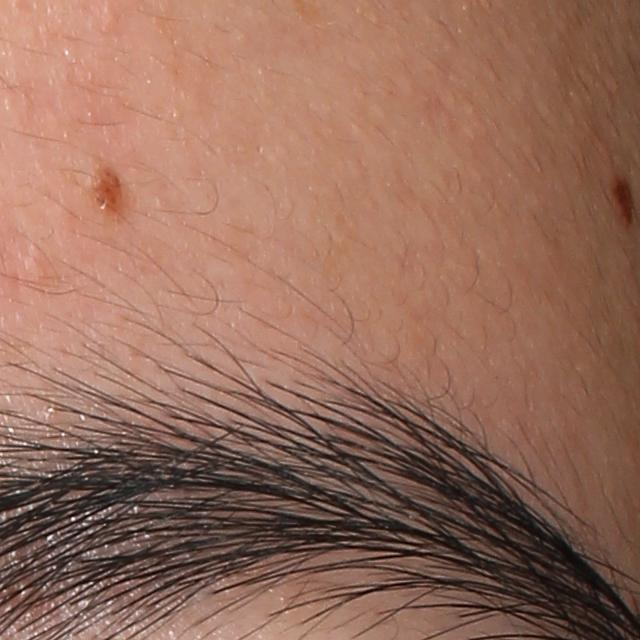nevus: (85, 155, 126, 216), (610, 170, 638, 231)
